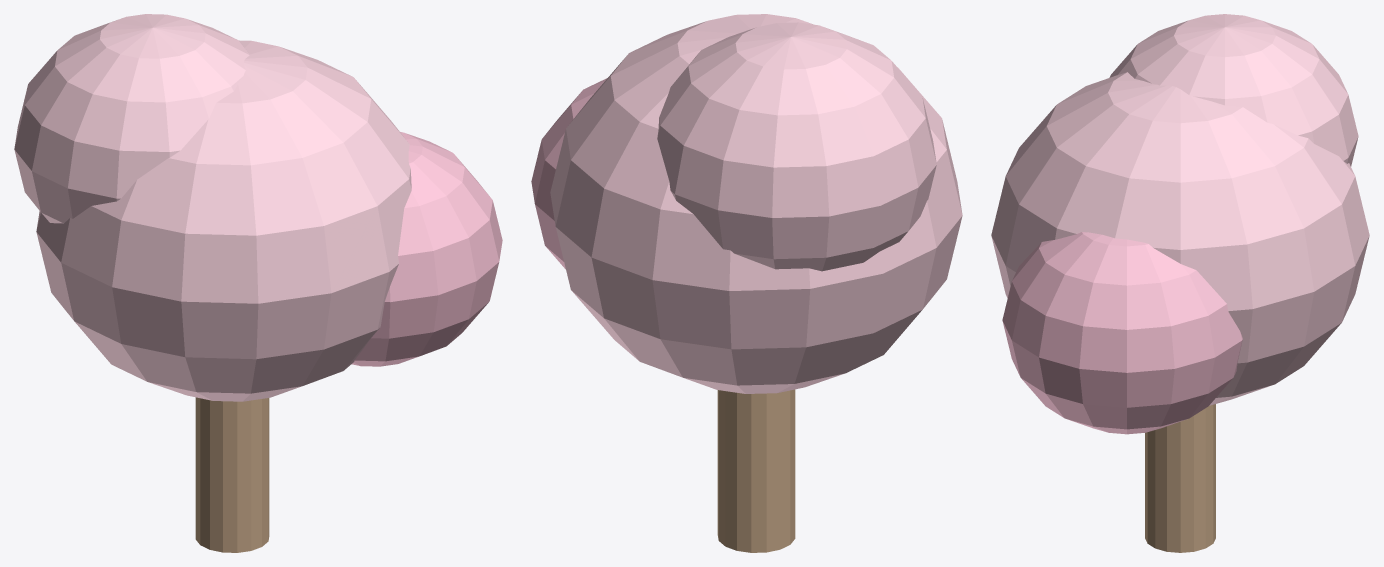
File: CherryTree.glb
3 views of the same model, side by side, from view 1: azimuth 30°, elevation 25°; view 2: azimuth 150°, elevation 25°; view 3: azimuth 270°, elevation 25° (orthographic). The views are drawn at different scales.
Visible parts, largest first — view 1: CherryTree_2, CherryTree_1, CherryTree_0; view 2: CherryTree_2, CherryTree_0, CherryTree_1; view 3: CherryTree_2, CherryTree_1, CherryTree_0.
Boxes of the visible parts, x1,y1,x2,y2 form: CherryTree_2: (14,14,411,401); CherryTree_1: (352,132,502,366); CherryTree_0: (195,397,269,552); CherryTree_2: (550,14,962,393); CherryTree_0: (717,389,795,552); CherryTree_1: (531,78,607,269); CherryTree_2: (991,14,1369,405); CherryTree_1: (1002,232,1242,434); CherryTree_0: (1145,404,1215,552).
Bounding box in the file's own units: 10 × 12 × 8.5.
